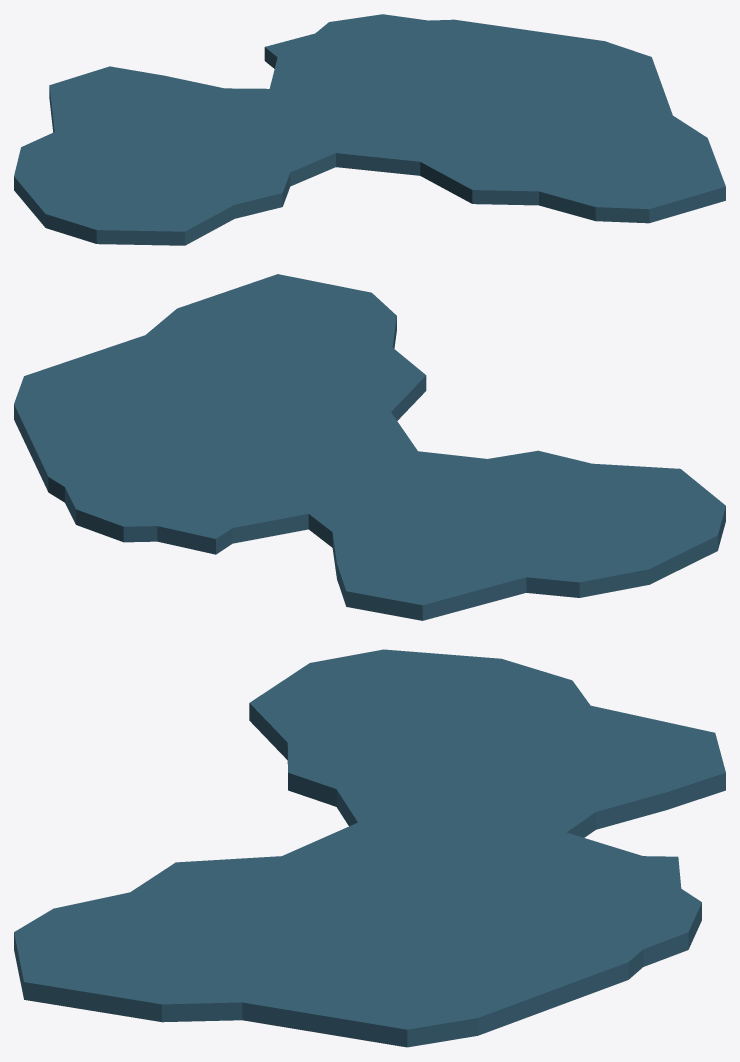
The model's file is RH_Ground03.fbx.
3 renders of one model, top to bottom at view 1: azimuth 30°, elevation 25°; view 2: azimuth 150°, elevation 25°; view 3: azimuth 270°, elevation 25°, orthographic. The views are drawn at different scales.
Visible parts, largest first — view 1: RH_Ground03; view 2: RH_Ground03; view 3: RH_Ground03.
Part boxes in pixels (x1,y1,x2,y2): RH_Ground03: [14, 14, 725, 245]; RH_Ground03: [14, 274, 725, 620]; RH_Ground03: [14, 649, 725, 1047].
Bounding box in the file's own units: 686 × 15 × 543.
1 material, 1 textured.
